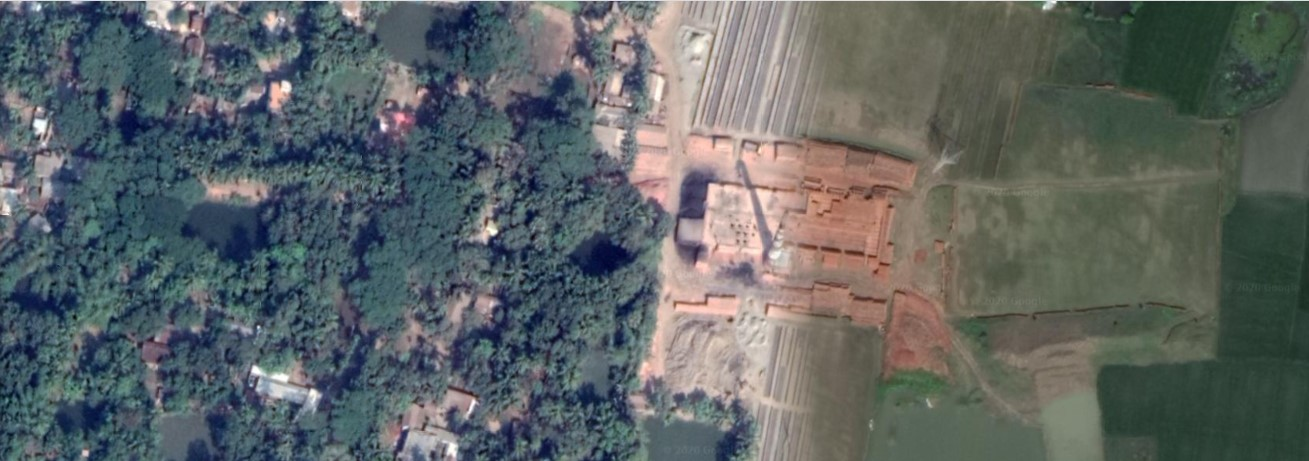kiln: (710, 158, 910, 273)
